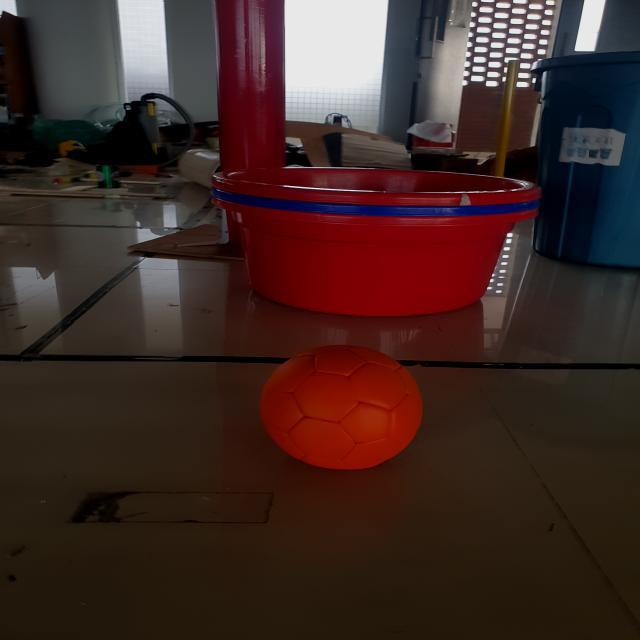bola: (256, 342, 427, 473)
